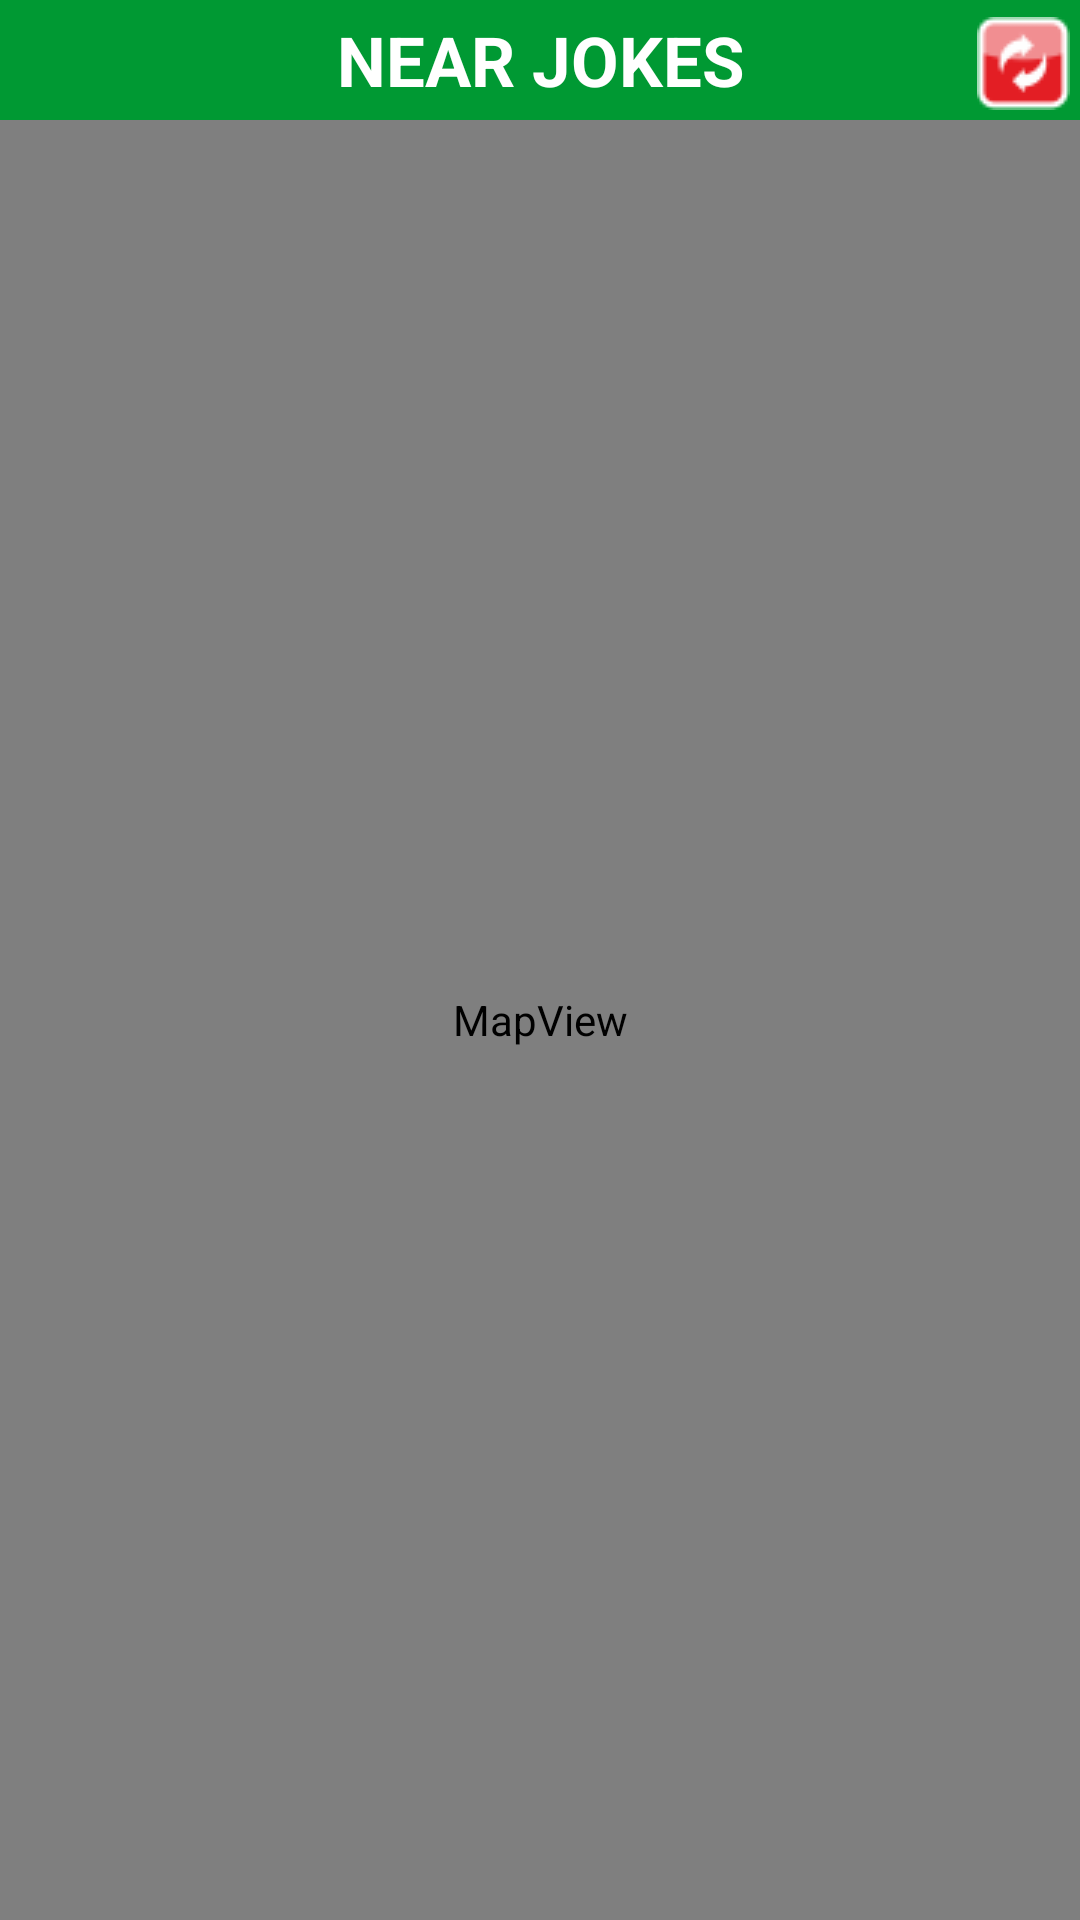

Icon click points for this 1080w x 1920h phone screenshot, format (x,y):
actualizar map style: (1023,63)
